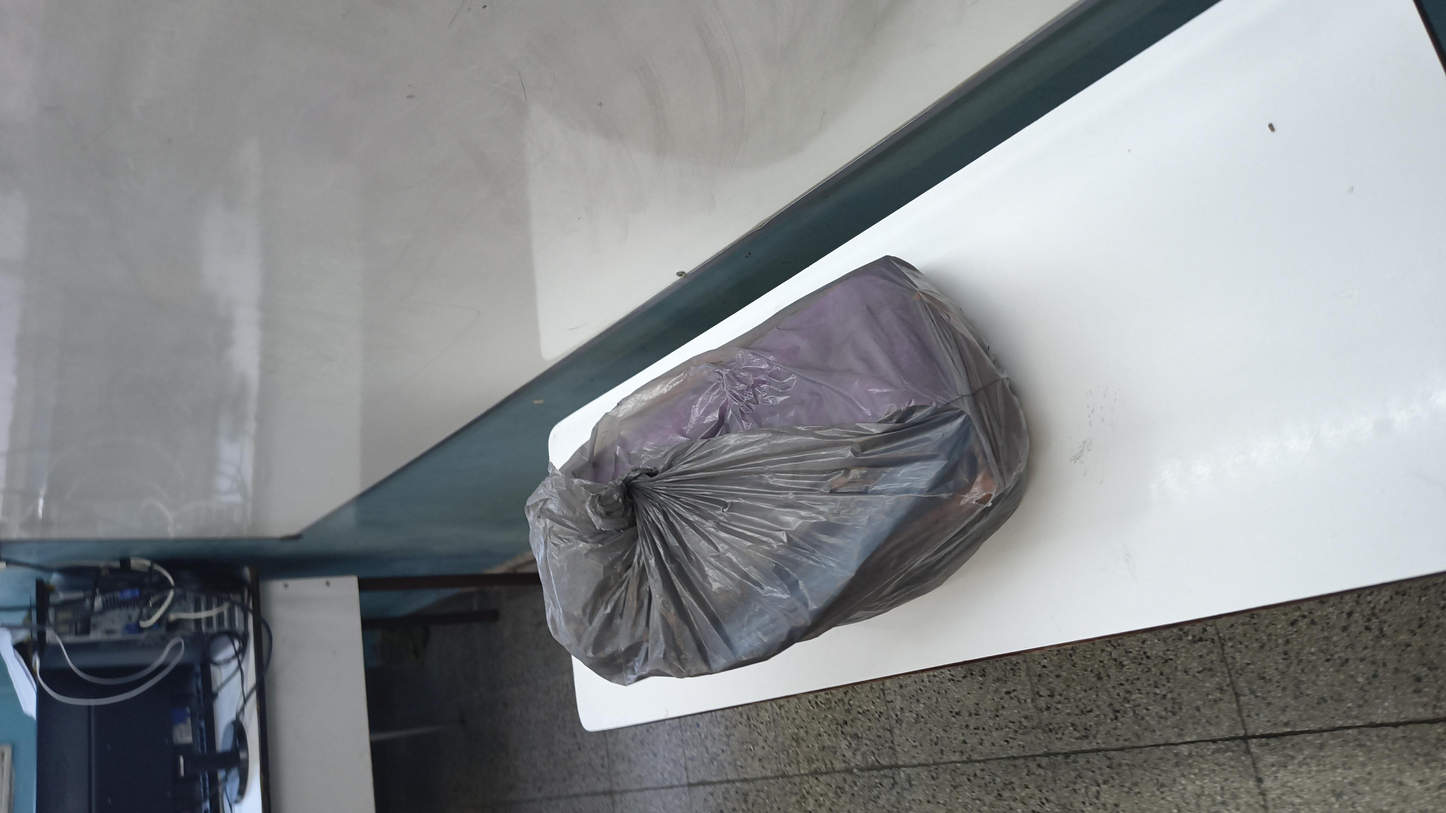Garbage: (176, 268, 1092, 621)
